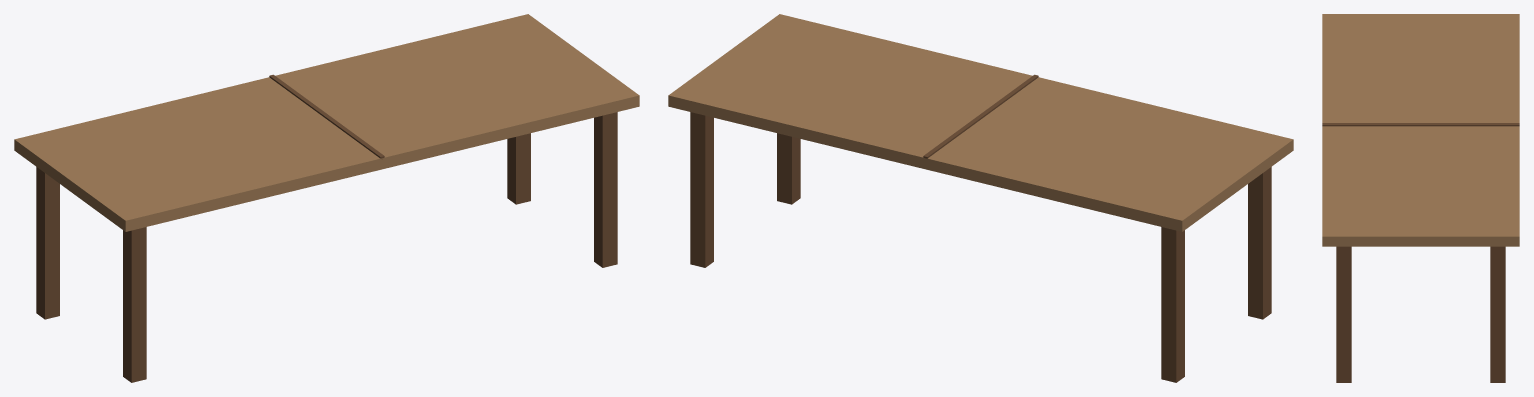
Rendered from table_ext.glb.
3 views of the same model, side by side, from view 1: azimuth 30°, elevation 25°; view 2: azimuth 150°, elevation 25°; view 3: azimuth 270°, elevation 25° (orthographic). The views are drawn at different scales.
Parts seen in each view (by area): view 1: table_ext; view 2: table_ext; view 3: table_ext.
Boxes of the visible parts, x1,y1,x2,y2 form: table_ext: (14,14,639,382); table_ext: (668,14,1293,382); table_ext: (1322,14,1519,382).
Size of the model in its own units: 2.4 by 0.772 by 0.9.
